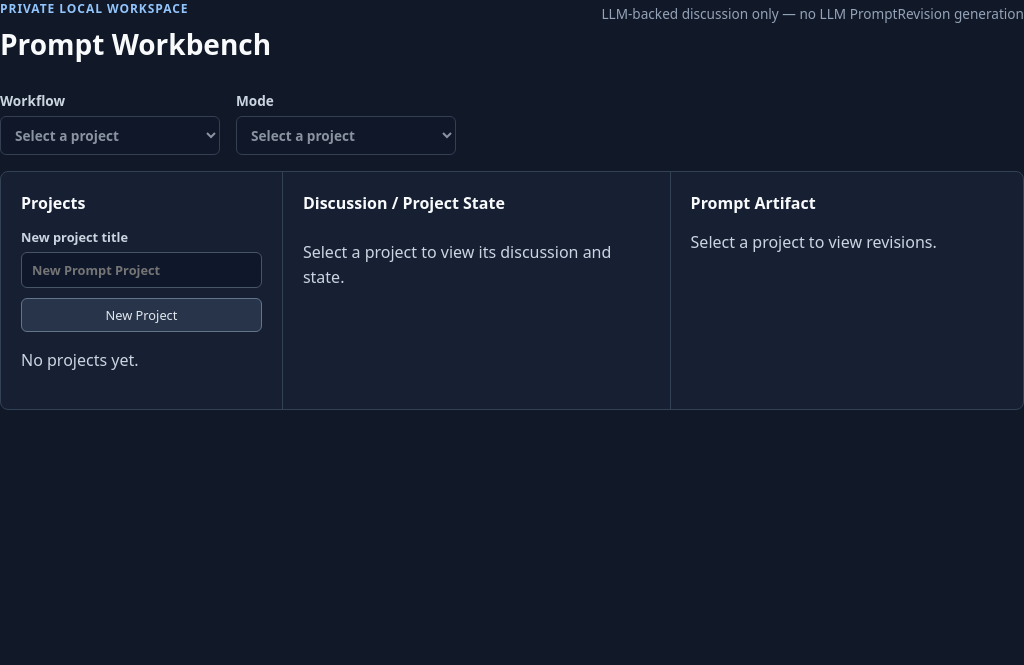
Scenario: Prompt Workbench persistence UI › creates a project and loads its persistent workspace
Type "Created project" into the field labelled "New project title" at (141, 270), box [21,252,262,288]
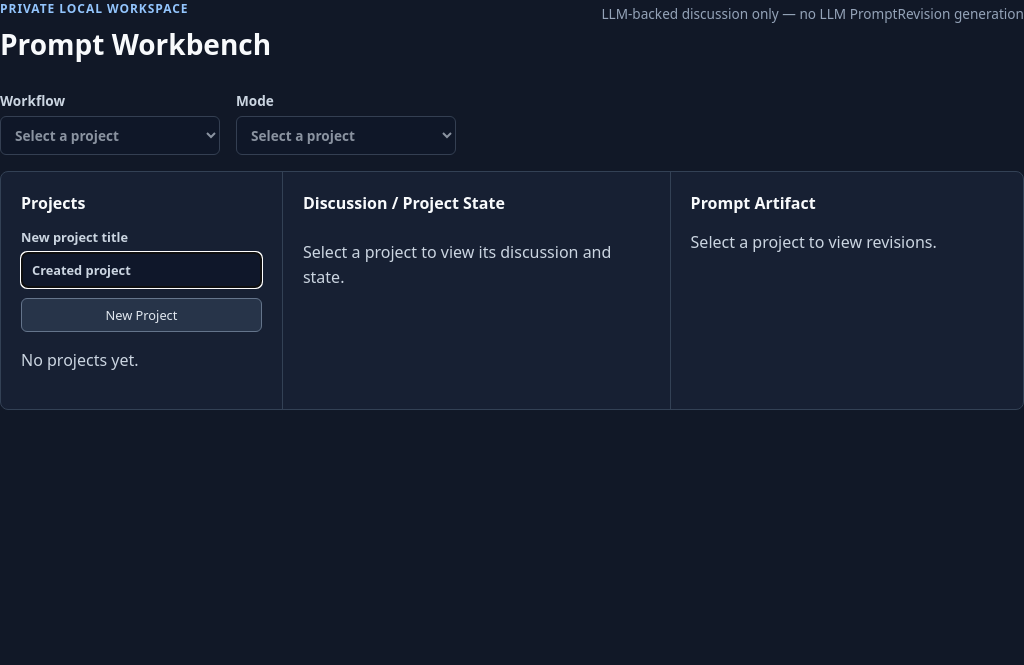
Click the button "New Project" at (141, 315), box [21,298,262,332]
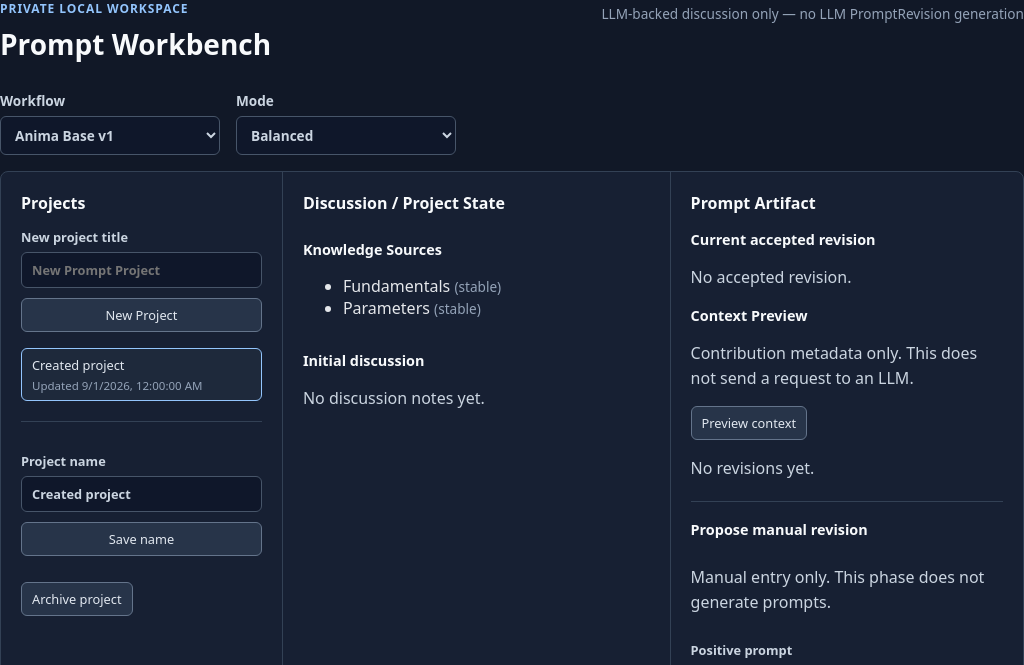
Now the field showing "Created project" is shown, box [21,476,262,512]
